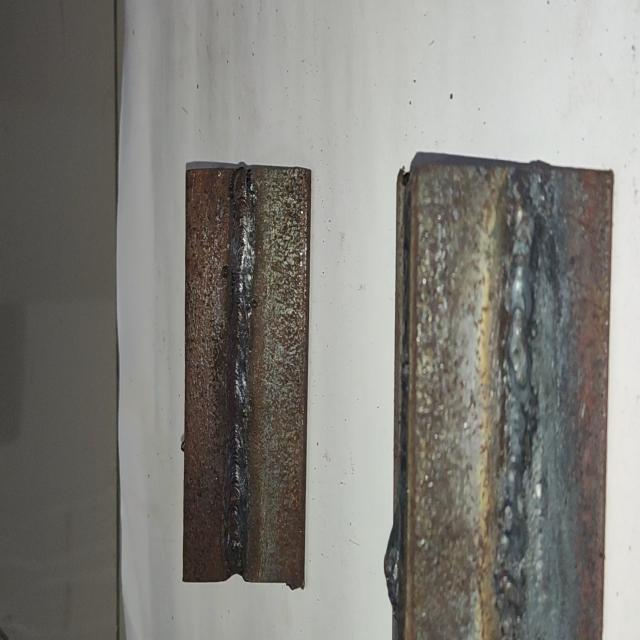Welding Line: (498, 164, 542, 639), (224, 169, 256, 574)
Workpiece: (387, 147, 622, 640), (182, 162, 312, 595)
